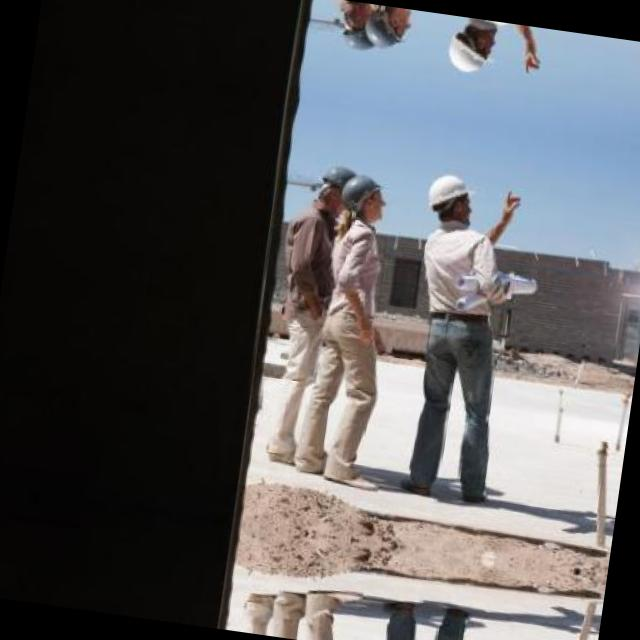helmet: (444, 18, 499, 80), (424, 167, 478, 229), (339, 172, 391, 225), (364, 4, 416, 53), (312, 161, 358, 216), (335, 0, 381, 54)
